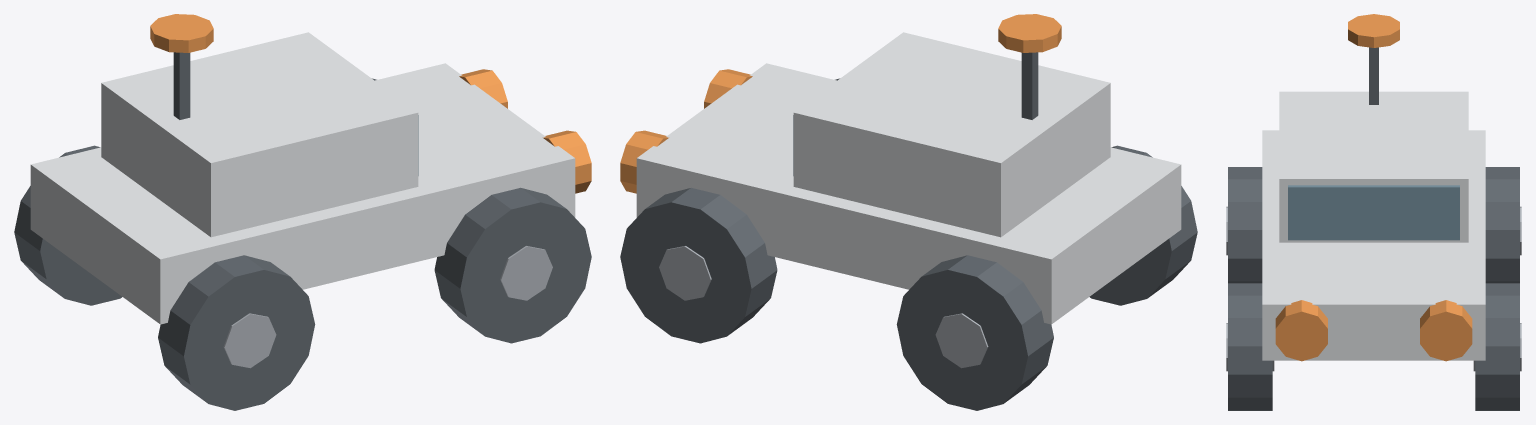
The model's file is rover.glb.
3 renders of one model, left to right at view 1: azimuth 30°, elevation 25°; view 2: azimuth 150°, elevation 25°; view 3: azimuth 270°, elevation 25°, orthographic. The views are drawn at different scales.
Bounding box in the file's own units: 2.54 × 1.74 × 1.72.
